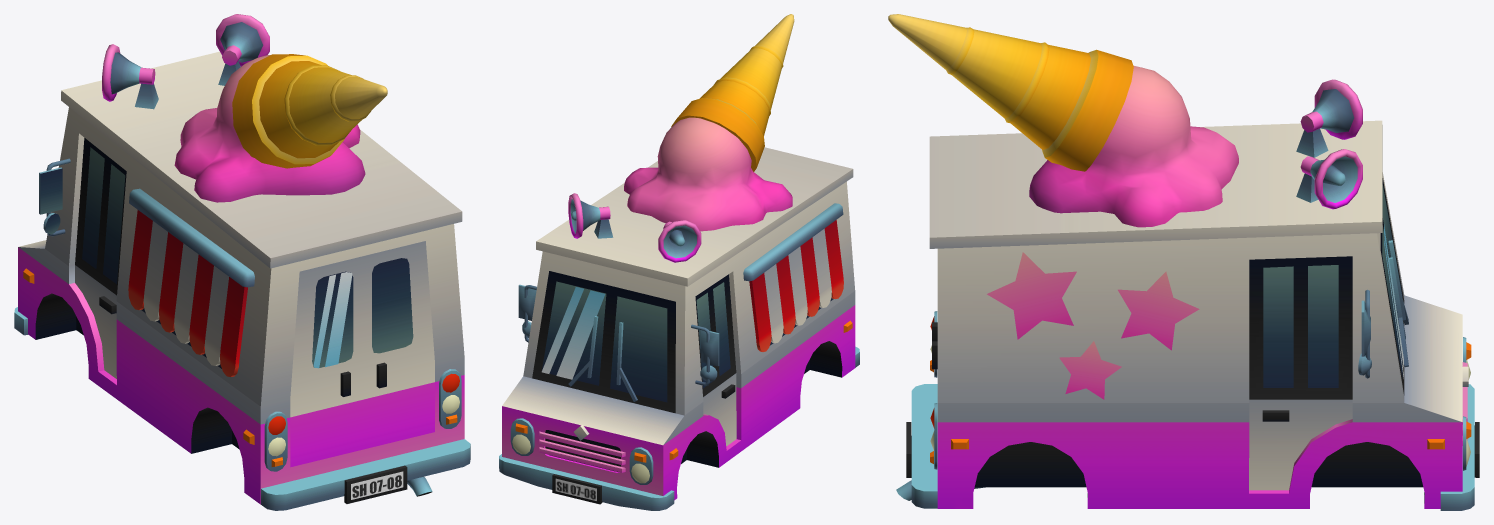
The model's file is car10.glb.
3 views of the same model, side by side, from view 1: azimuth 30°, elevation 25°; view 2: azimuth 150°, elevation 25°; view 3: azimuth 270°, elevation 25° (orthographic). The views are drawn at different scales.
Parts seen in each view (by area): view 1: model_13.002; view 2: model_13.002; view 3: model_13.002.
Part boxes in pixels (x1=…): model_13.002: x1=14, y1=14, x2=470, y2=510; model_13.002: x1=499, y1=14, x2=859, y2=510; model_13.002: x1=888, y1=14, x2=1479, y2=510.
Bounding box in the file's own units: 164 × 264 × 307.
Materials: 1 (1 with a texture image).
